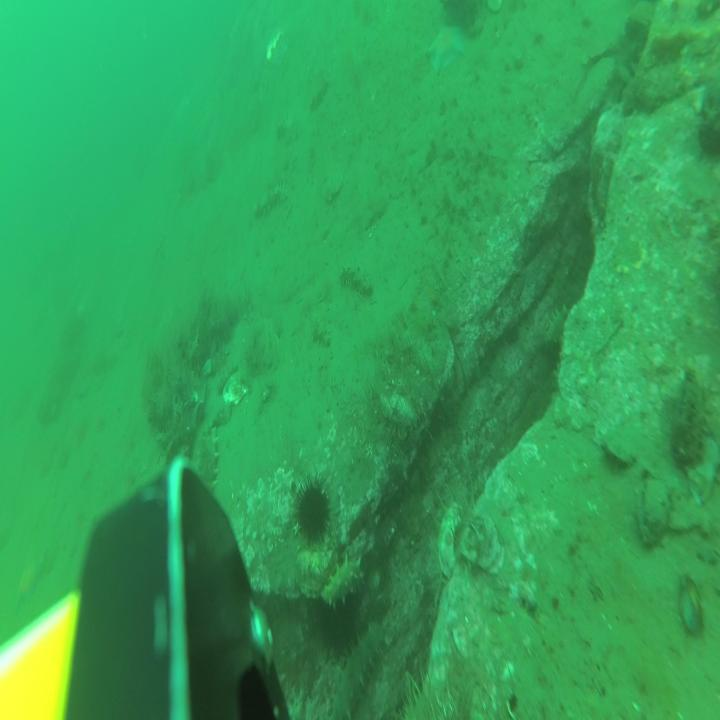echinus: (292, 473, 332, 548), (322, 589, 360, 667)
holothurian: (330, 620, 385, 720), (322, 552, 366, 610), (197, 421, 220, 524), (549, 305, 576, 388), (339, 263, 372, 298), (256, 186, 285, 218), (309, 75, 329, 114), (276, 118, 297, 144), (313, 321, 331, 349)
scallop: (224, 371, 248, 409), (257, 334, 279, 372), (250, 316, 271, 354), (322, 174, 343, 205), (486, 0, 503, 12)
starfish: (428, 26, 465, 78), (16, 552, 46, 610)
